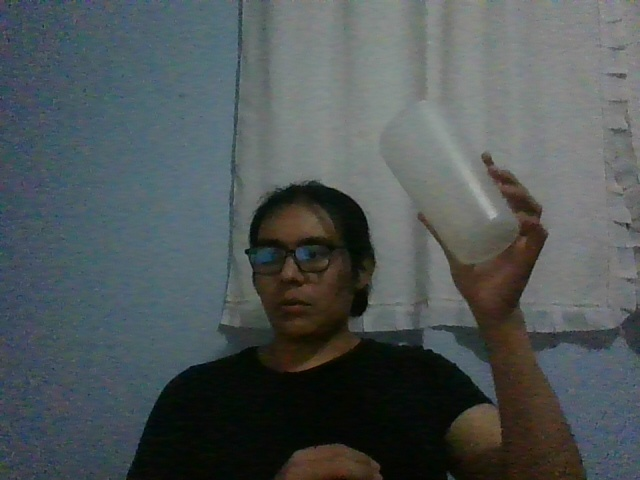vaso: (378, 100, 519, 264)
